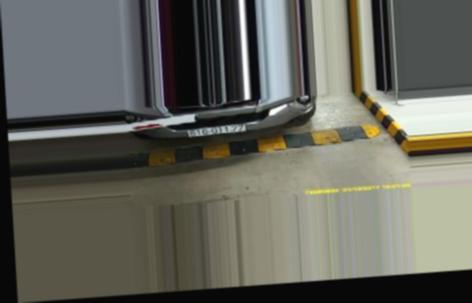License_Plate: (187, 122, 248, 137)
